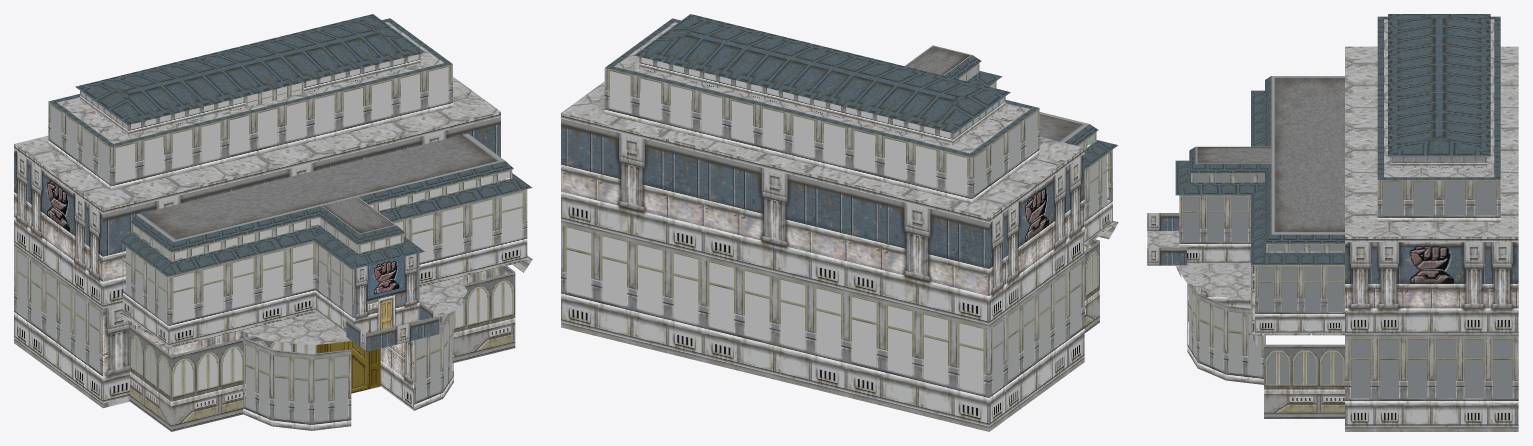
Rendered from s_main.glb.
The picture shows the model from 3 angles, left to right: view 1: azimuth 30°, elevation 25°; view 2: azimuth 150°, elevation 25°; view 3: azimuth 270°, elevation 25°; orthographic projection. The views are drawn at different scales.
Parts seen in each view (by area): view 1: S_HC_Main, LitWin_S_Main; view 2: S_HC_Main, LitWin_S_Main; view 3: S_HC_Main, LitWin_S_Main.
Boxes of the visible parts, x1=… form: S_HC_Main: x1=14, y1=14, x2=532, y2=431; LitWin_S_Main: x1=17, y1=54, x2=522, y2=421; S_HC_Main: x1=561, y1=14, x2=1118, y2=431; LitWin_S_Main: x1=566, y1=57, x2=1107, y2=393; S_HC_Main: x1=1147, y1=14, x2=1518, y2=431; LitWin_S_Main: x1=1183, y1=156, x2=1512, y2=398.
Bounding box in the file's own units: 42.51 × 26.88 × 35.1.
10 materials, 10 textured.
